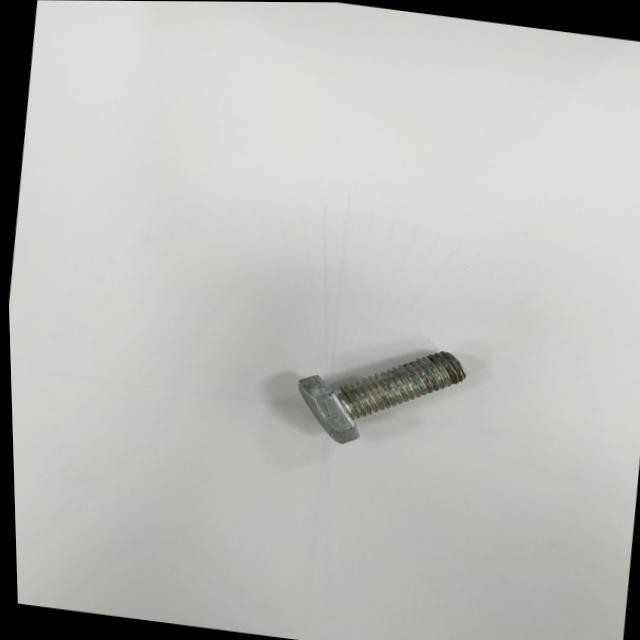Bolt: (296, 351, 462, 443)
